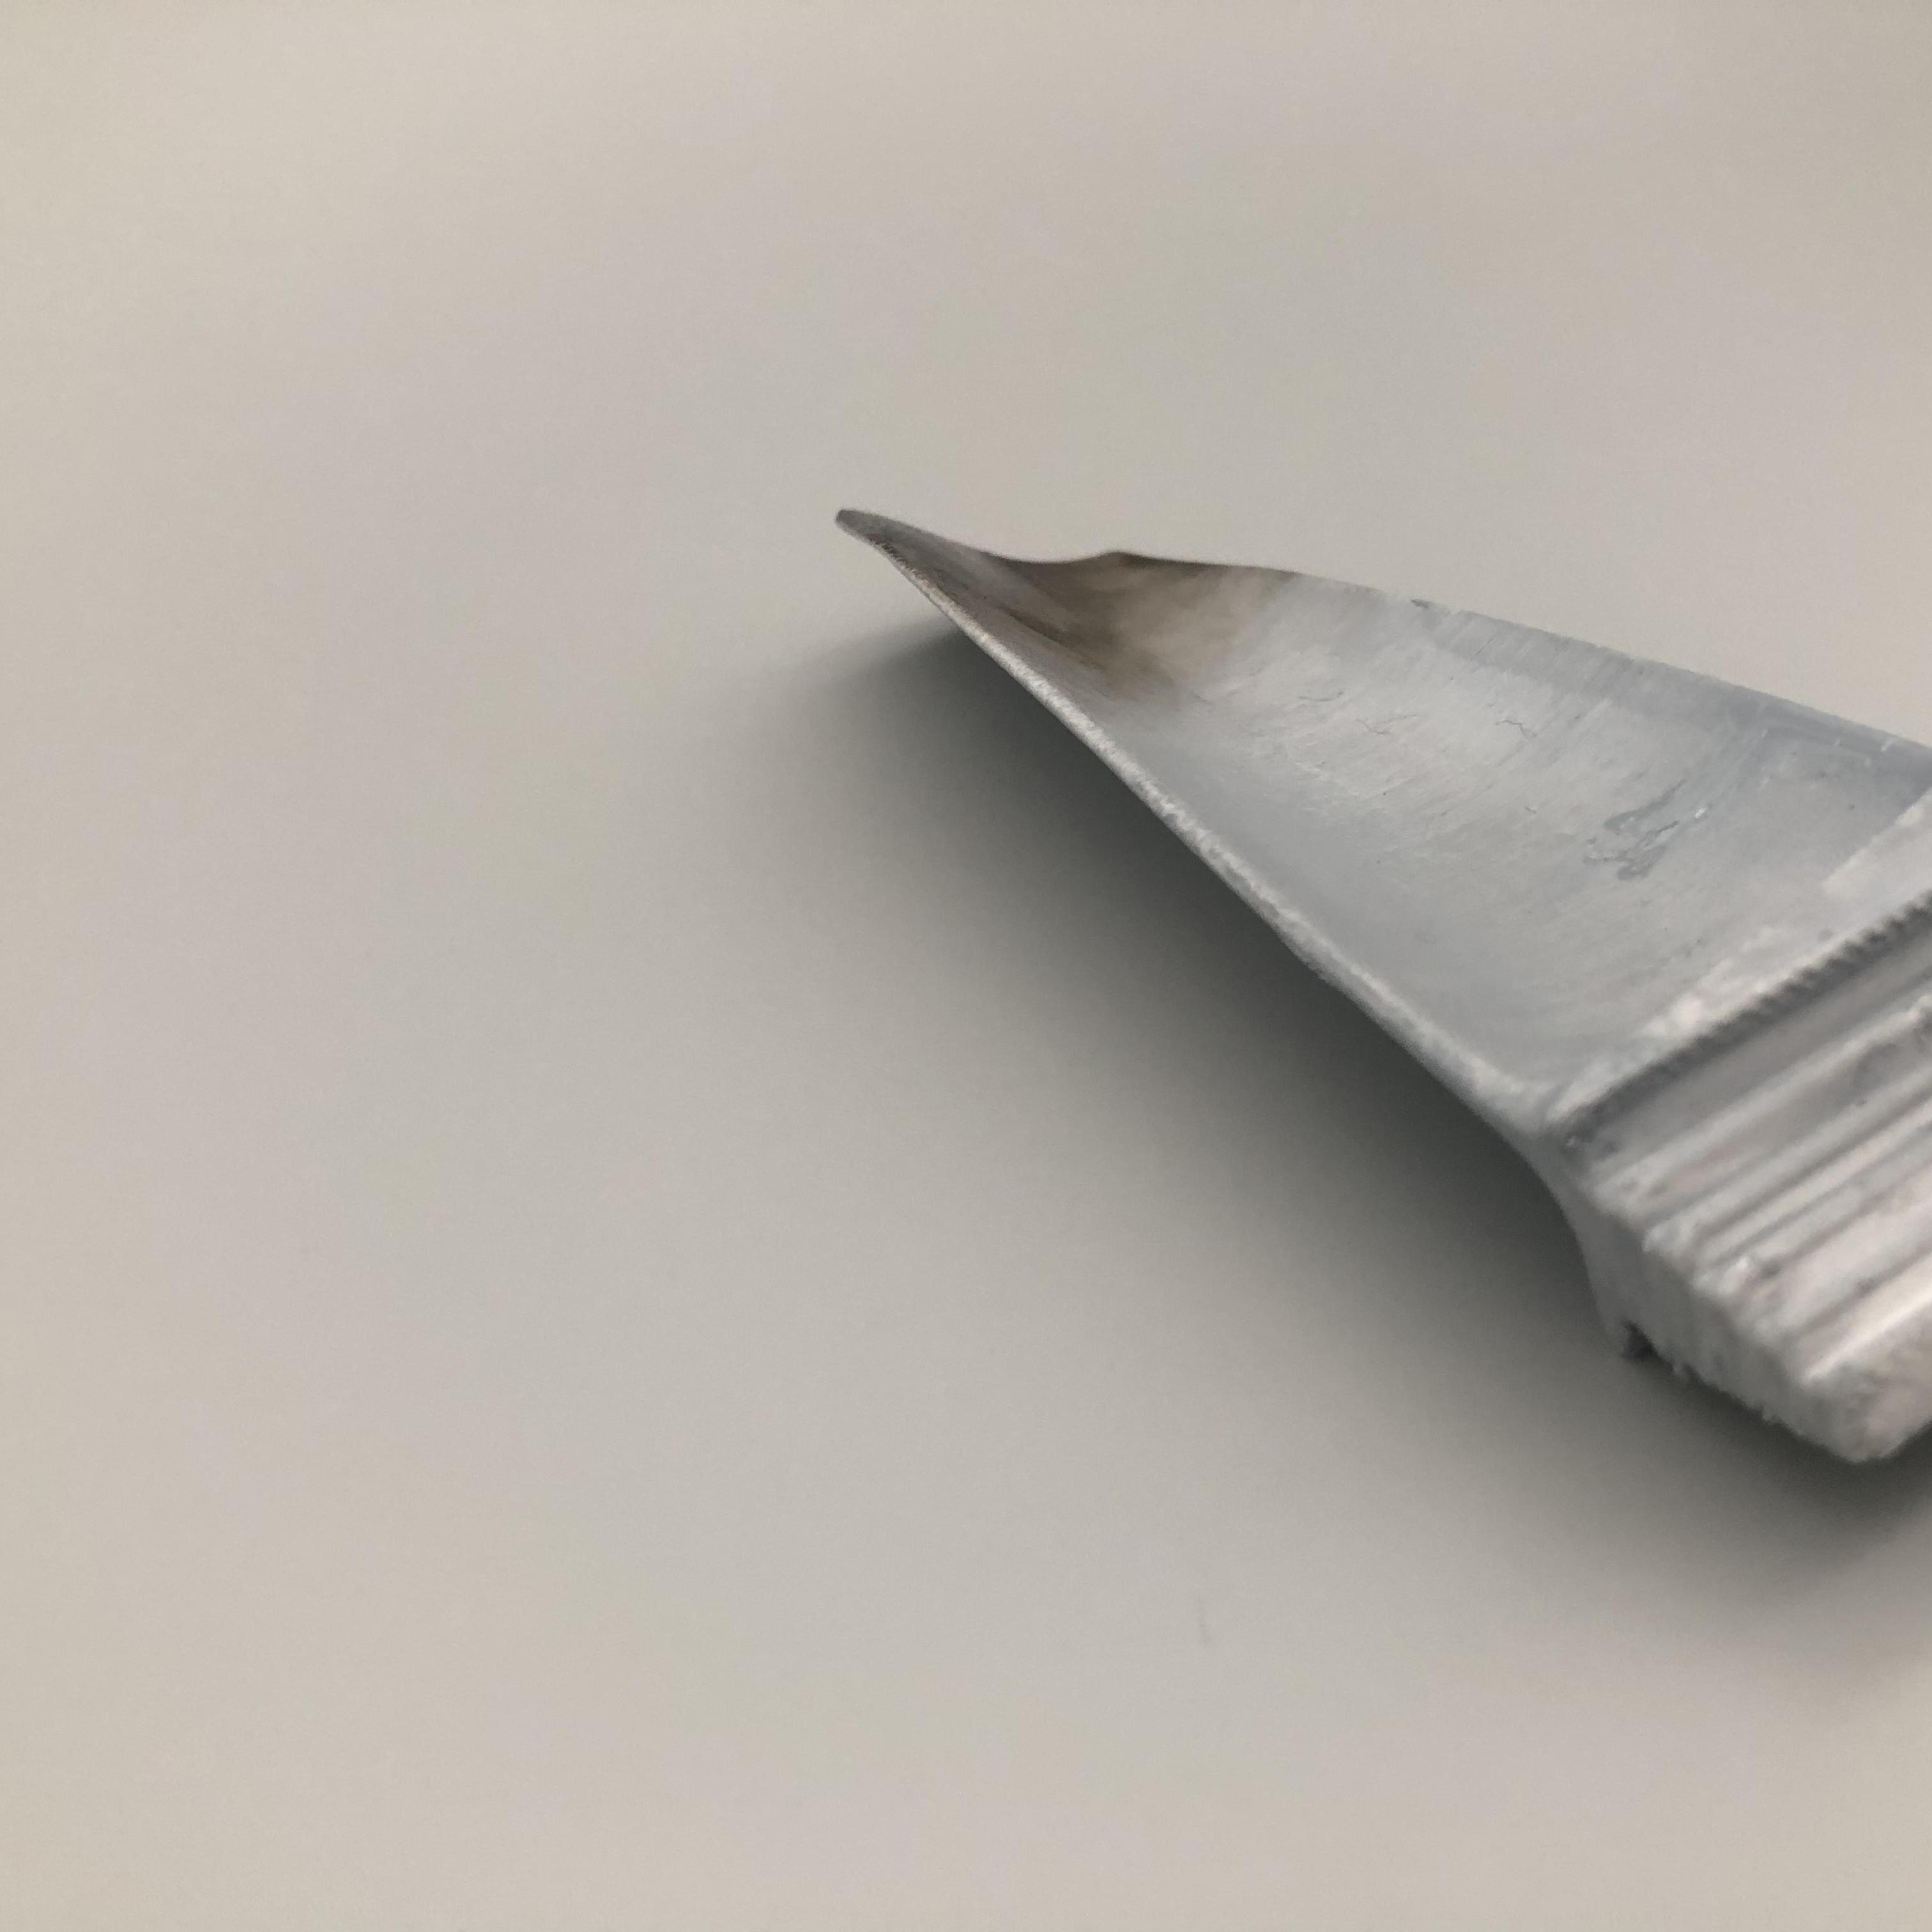ablation: (901, 518, 1207, 660)
